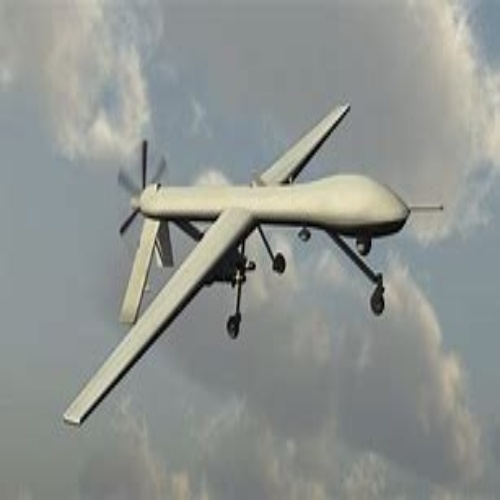uav647: (54, 104, 446, 428)
